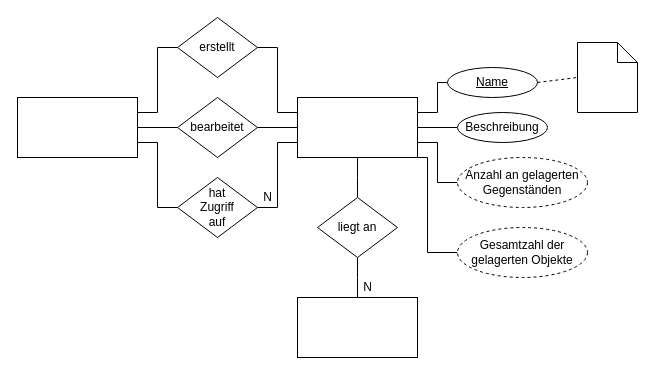
This 655x375 diagram has some shape labels left out. The centre of each missing label's shape, as x and y in pixels:
Darf nicht leer sein: [607,77]
Gegenstand: [357,327]
Lagerort: [357,127]
Nutzer: [77,127]
